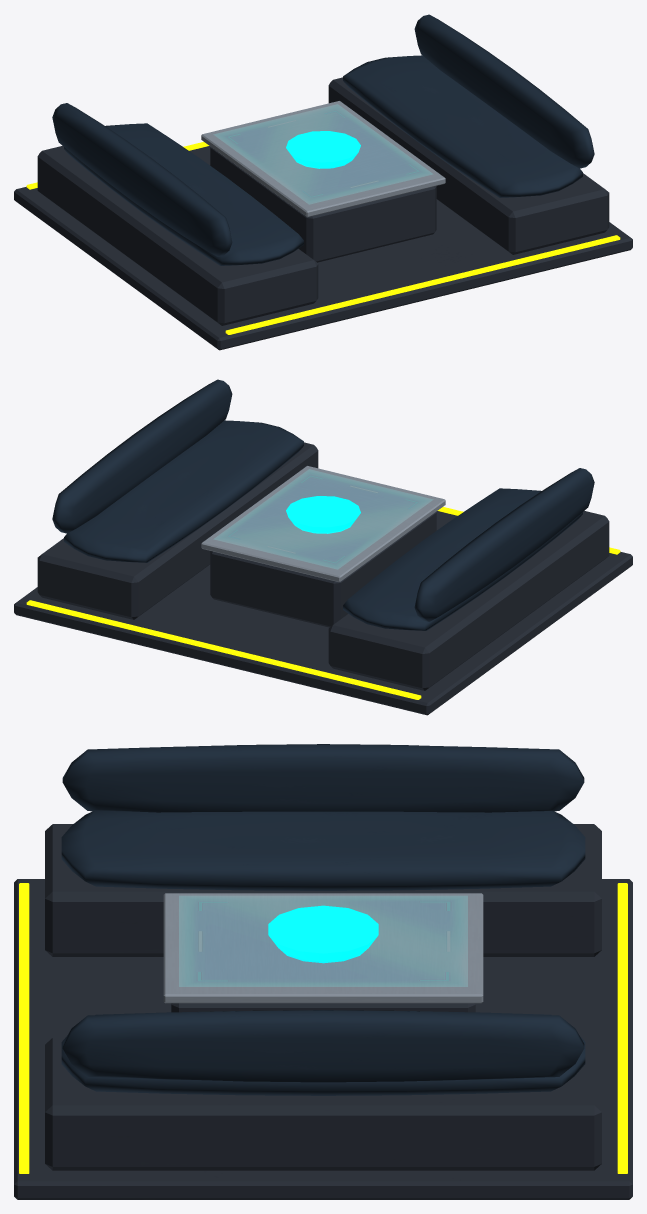
The model's file is lounge_viewing_pit_set.glb.
The picture shows the model from 3 angles, top to bottom: view 1: azimuth 30°, elevation 25°; view 2: azimuth 150°, elevation 25°; view 3: azimuth 270°, elevation 25°; orthographic projection. The views are drawn at different scales.
Visible parts, largest first — view 1: ViewingPit_CarbonSlatePlinthAndTableBase, ViewingPit_OrbitalNavySofaCushions, ViewingPit_MachinedSteelTableBezel, ViewingPit_TranslucentHoloTableGlass, ViewingPit_AmberPerimeterStrips, ViewingPit_CyanHoloChessCore; view 2: ViewingPit_CarbonSlatePlinthAndTableBase, ViewingPit_OrbitalNavySofaCushions, ViewingPit_MachinedSteelTableBezel, ViewingPit_TranslucentHoloTableGlass, ViewingPit_AmberPerimeterStrips, ViewingPit_CyanHoloChessCore; view 3: ViewingPit_CarbonSlatePlinthAndTableBase, ViewingPit_OrbitalNavySofaCushions, ViewingPit_MachinedSteelTableBezel, ViewingPit_TranslucentHoloTableGlass, ViewingPit_AmberPerimeterStrips, ViewingPit_CyanHoloChessCore.
Part boxes in pixels (x1,y1,x2,y2): ViewingPit_CarbonSlatePlinthAndTableBase: (14,77,632,350); ViewingPit_OrbitalNavySofaCushions: (52,14,594,265); ViewingPit_MachinedSteelTableBezel: (201,101,445,217); ViewingPit_TranslucentHoloTableGlass: (215,104,431,203); ViewingPit_AmberPerimeterStrips: (26,142,620,334); ViewingPit_CyanHoloChessCore: (286,131,360,168); ViewingPit_CarbonSlatePlinthAndTableBase: (14,442,632,715); ViewingPit_OrbitalNavySofaCushions: (52,379,594,630); ViewingPit_MachinedSteelTableBezel: (201,466,445,582); ViewingPit_TranslucentHoloTableGlass: (215,469,431,568); ViewingPit_AmberPerimeterStrips: (26,507,620,699); ViewingPit_CyanHoloChessCore: (286,496,360,533); ViewingPit_CarbonSlatePlinthAndTableBase: (14,824,632,1199); ViewingPit_OrbitalNavySofaCushions: (61,744,585,1095); ViewingPit_MachinedSteelTableBezel: (163,893,483,1003); ViewingPit_TranslucentHoloTableGlass: (179,896,467,986); ViewingPit_AmberPerimeterStrips: (19,883,627,1173); ViewingPit_CyanHoloChessCore: (268,905,378,963).
Size of the model in its own units: 2.8 by 0.722 by 2.4.
6 materials, 6 textured.
